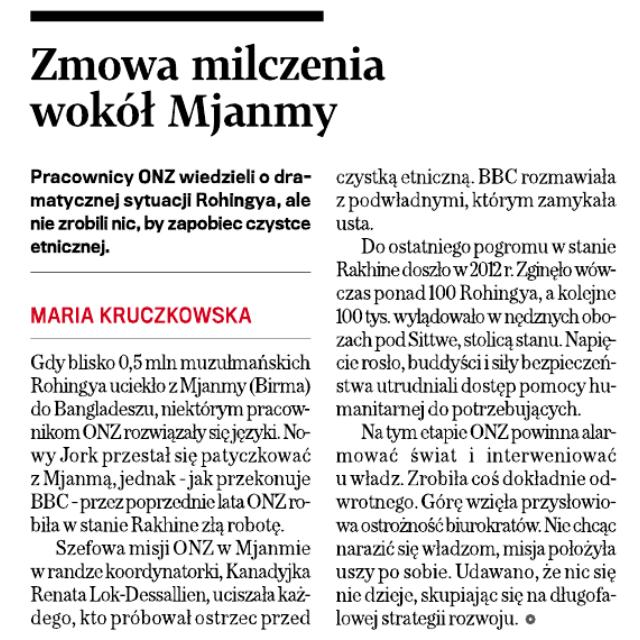author: (25, 300, 258, 332)
body: (333, 164, 625, 634), (24, 342, 322, 632)
lead: (22, 160, 320, 264)
title: (24, 33, 402, 143)
